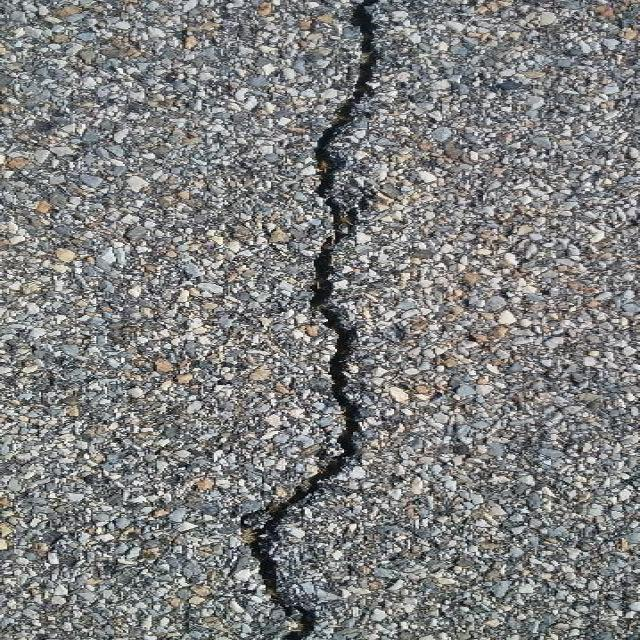GRIETA: (242, 0, 377, 639)
